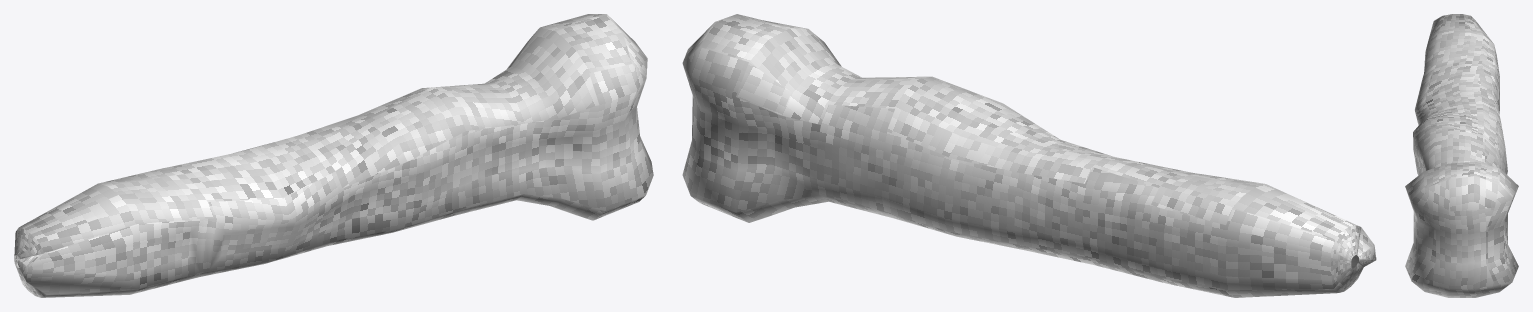
File: Bone2.glb
The picture shows the model from 3 angles, left to right: view 1: azimuth 30°, elevation 25°; view 2: azimuth 150°, elevation 25°; view 3: azimuth 270°, elevation 25°; orthographic projection. The views are drawn at different scales.
Visible parts, largest first — view 1: Cube; view 2: Cube; view 3: Cube.
Part boxes in pixels (x1,y1,x2,y2): Cube: (14,14,653,297); Cube: (682,14,1376,297); Cube: (1405,14,1518,297).
Bounding box in the file's own units: 0.5528 × 0.1456 × 0.1184.
Materials: 1 (1 with a texture image).
